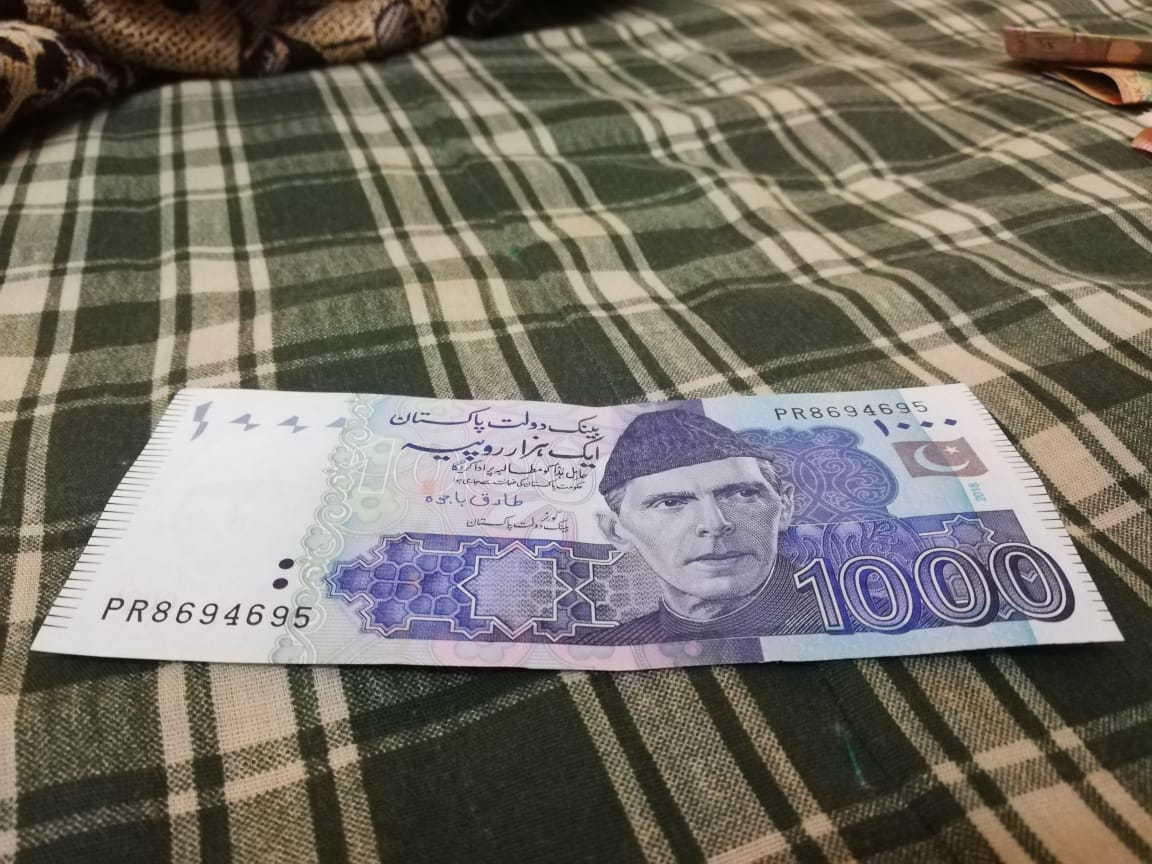1000 rupee: (21, 316, 1100, 741)
